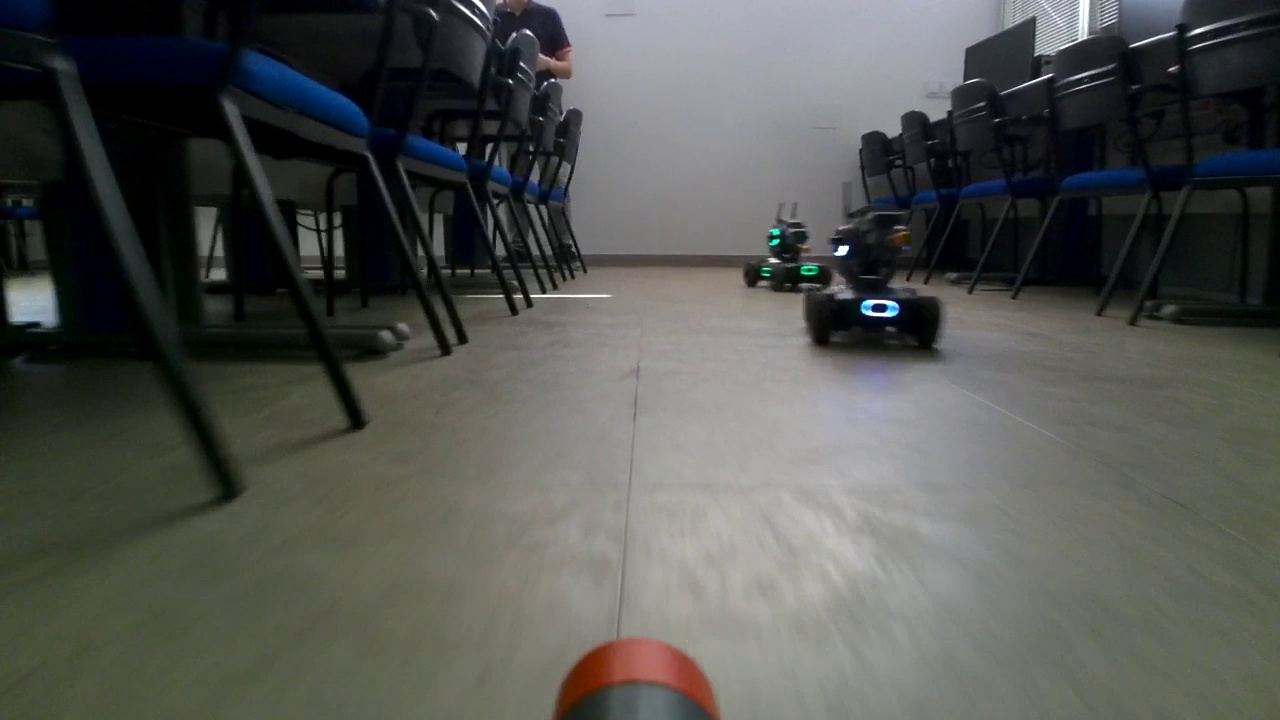robot: (804, 182, 946, 350), (745, 202, 830, 290)
